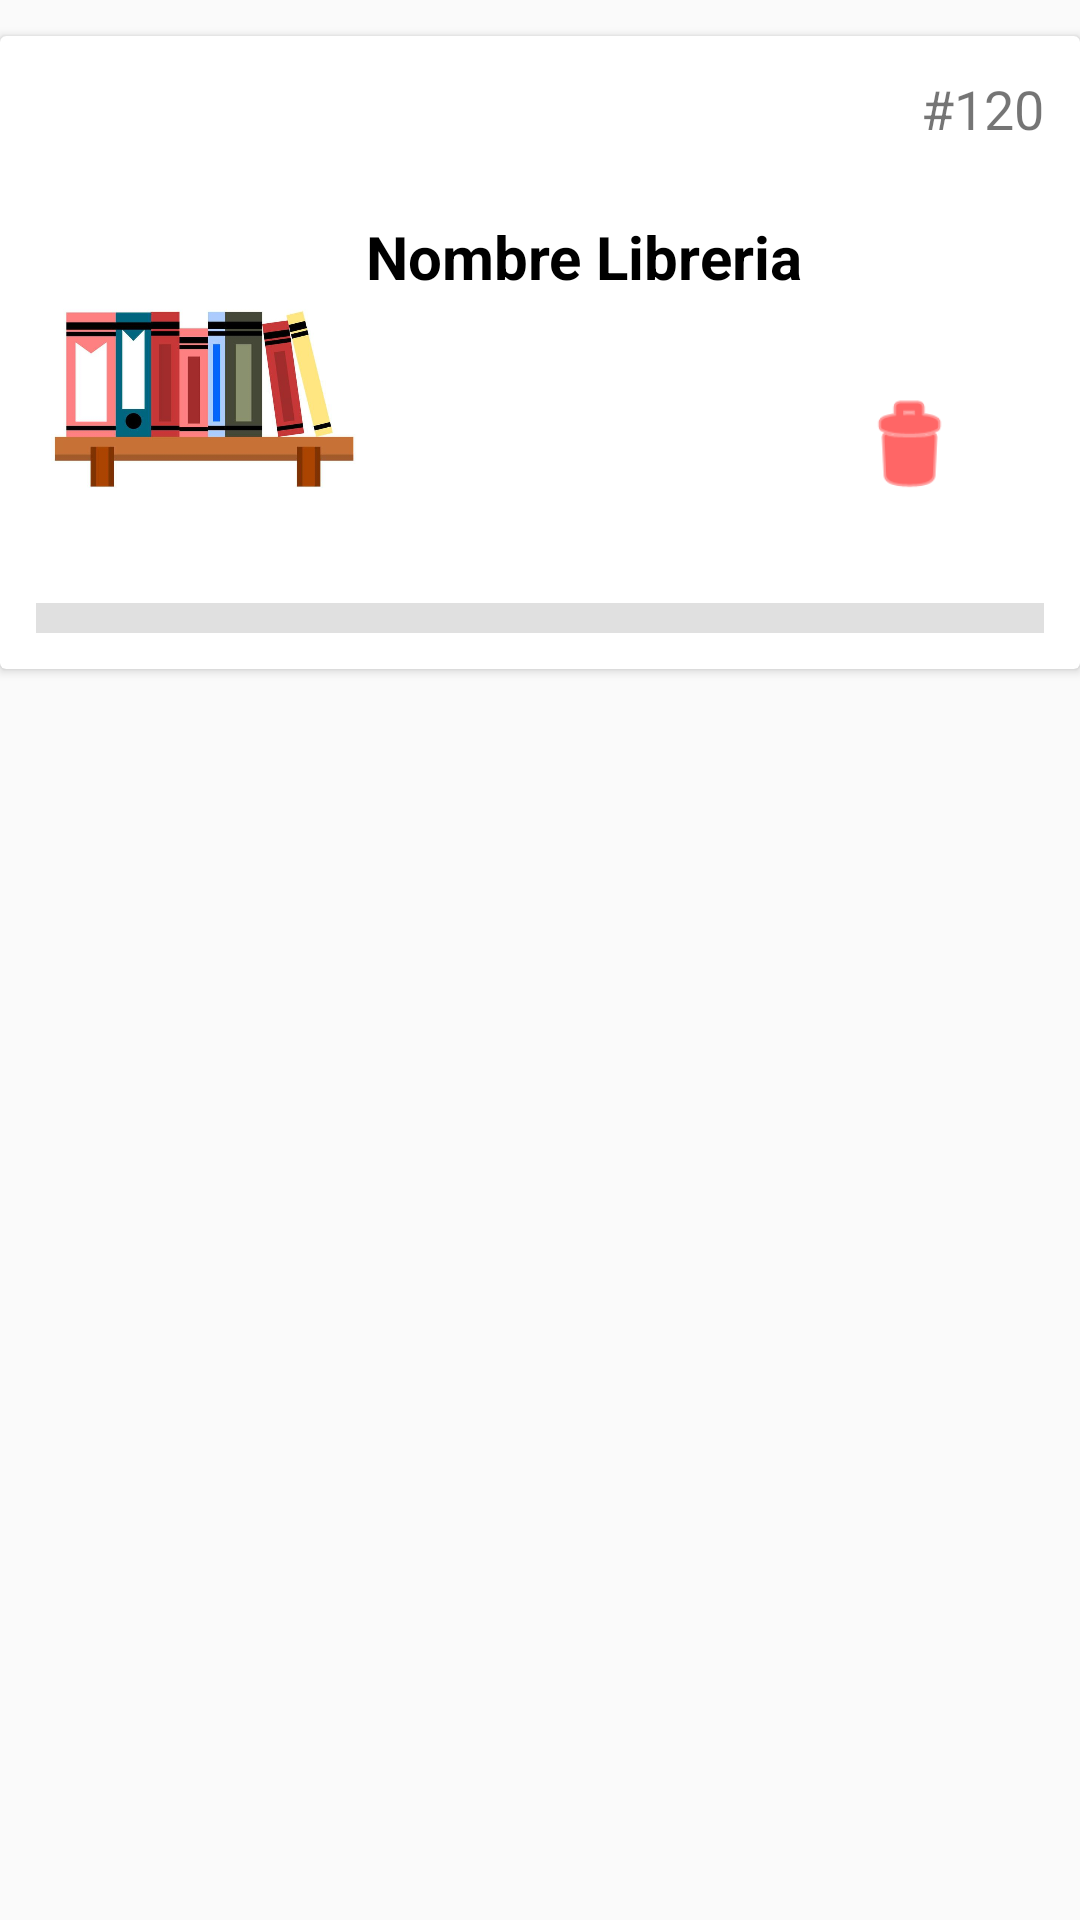

Where to tap for icons on this 1080*1920 app screen, as (x=x, y=y):
Eliminar librería: (x=909, y=443)
repisa: (x=204, y=399)
